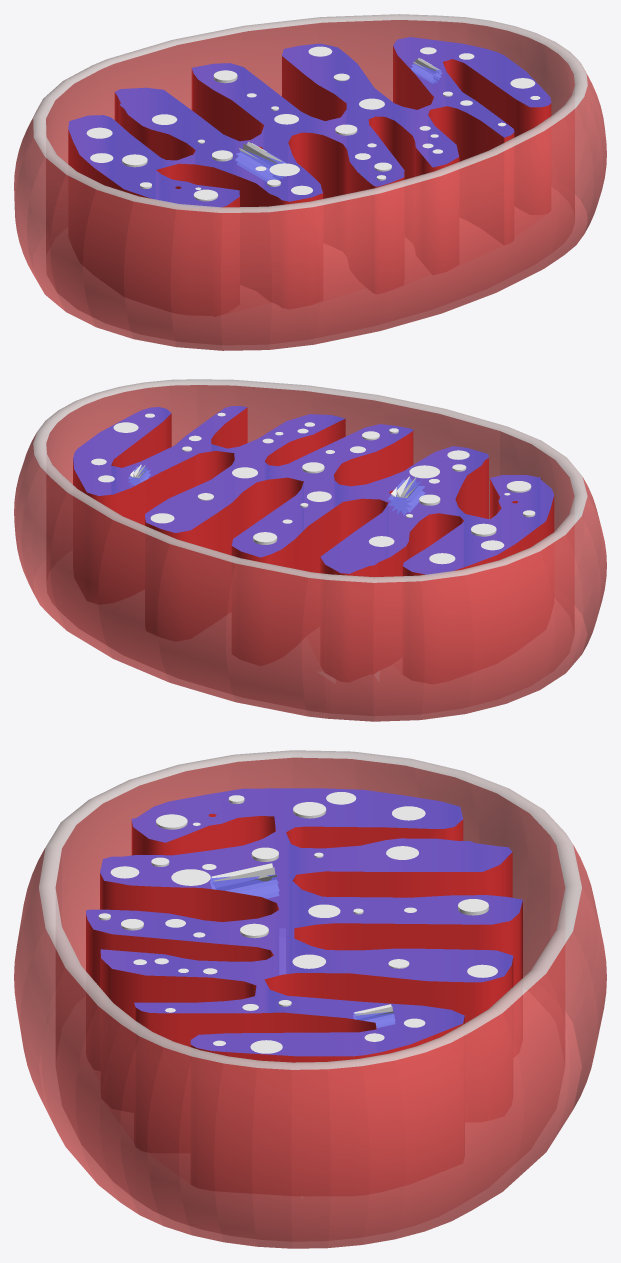
File: Мітохондрія.obj
3 renders of one model, top to bottom at view 1: azimuth 30°, elevation 25°; view 2: azimuth 150°, elevation 25°; view 3: azimuth 270°, elevation 25°, orthographic. The views are drawn at different scales.
Visible parts, largest first — view 1: Mesh5 Group1 Model, Mesh6 Group1 Model, Mesh3 Group3 Group1 Model, Mesh1 Group2 Group1 Model; view 2: Mesh5 Group1 Model, Mesh6 Group1 Model, Mesh3 Group3 Group1 Model; view 3: Mesh6 Group1 Model, Mesh5 Group1 Model, Mesh3 Group3 Group1 Model.
Boxes of the visible parts, left/top/right/bottom form: Mesh5 Group1 Model: left=14, top=14, right=606, bottom=350; Mesh6 Group1 Model: left=68, top=37, right=551, bottom=315; Mesh3 Group3 Group1 Model: left=236, top=141, right=284, bottom=181; Mesh1 Group2 Group1 Model: left=411, top=58, right=441, bottom=83; Mesh5 Group1 Model: left=14, top=379, right=606, bottom=721; Mesh6 Group1 Model: left=73, top=406, right=554, bottom=683; Mesh3 Group3 Group1 Model: left=388, top=476, right=424, bottom=514; Mesh6 Group1 Model: left=86, top=788, right=522, bottom=1195; Mesh5 Group1 Model: left=14, top=750, right=606, bottom=1248; Mesh3 Group3 Group1 Model: left=210, top=863, right=278, bottom=898.
Bounding box in the file's own units: 3551 × 1082 × 2614.
